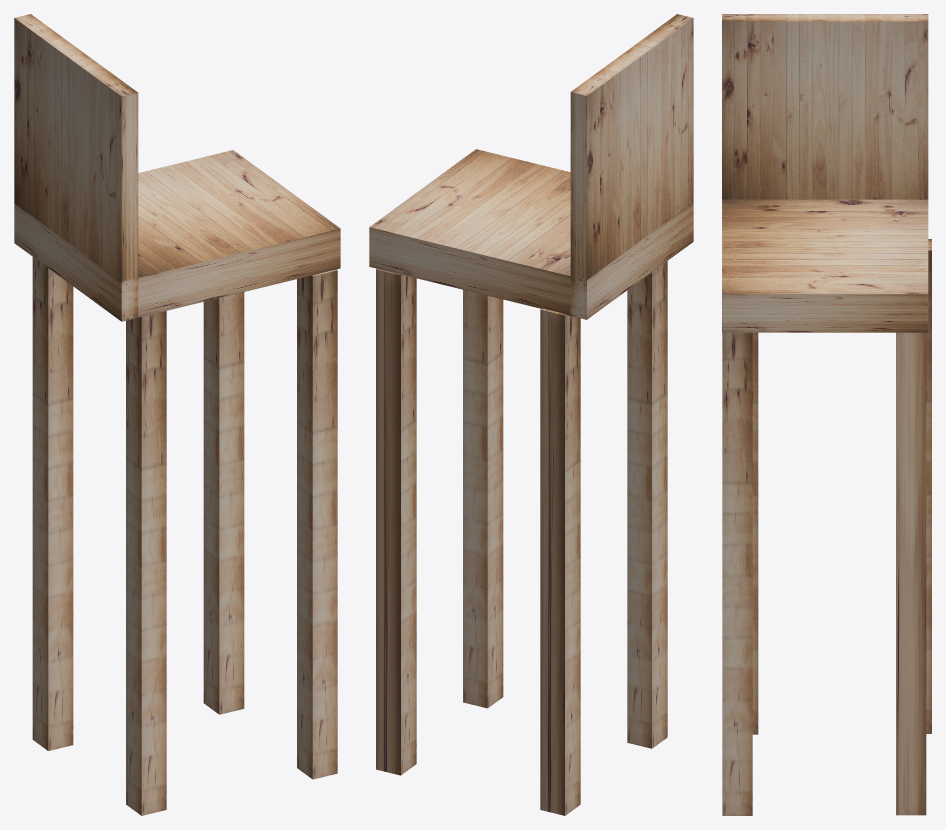
The model's file is nookChair.fbx.
The picture shows the model from 3 angles, left to right: view 1: azimuth 30°, elevation 25°; view 2: azimuth 150°, elevation 25°; view 3: azimuth 270°, elevation 25°; orthographic projection. The views are drawn at different scales.
Visible parts, largest first — view 1: Cube; view 2: Cube; view 3: Cube.
Boxes of the visible parts, left/top/right/bottom form: Cube: left=14, top=14, right=340, bottom=815; Cube: left=369, top=14, right=693, bottom=815; Cube: left=722, top=14, right=931, bottom=815.
Size of the model in its own units: 90.98 by 290 by 78.66.
